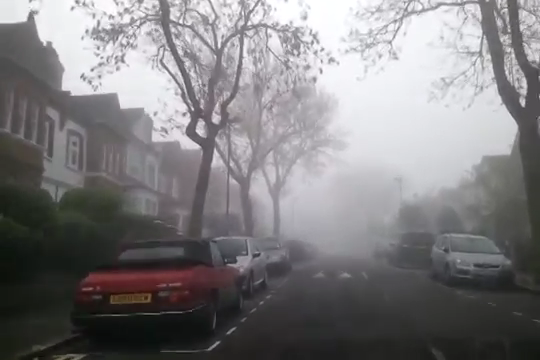car: (72, 238, 243, 341), (430, 231, 518, 288), (195, 237, 270, 297), (384, 229, 438, 268), (246, 236, 293, 274), (280, 239, 310, 263)
